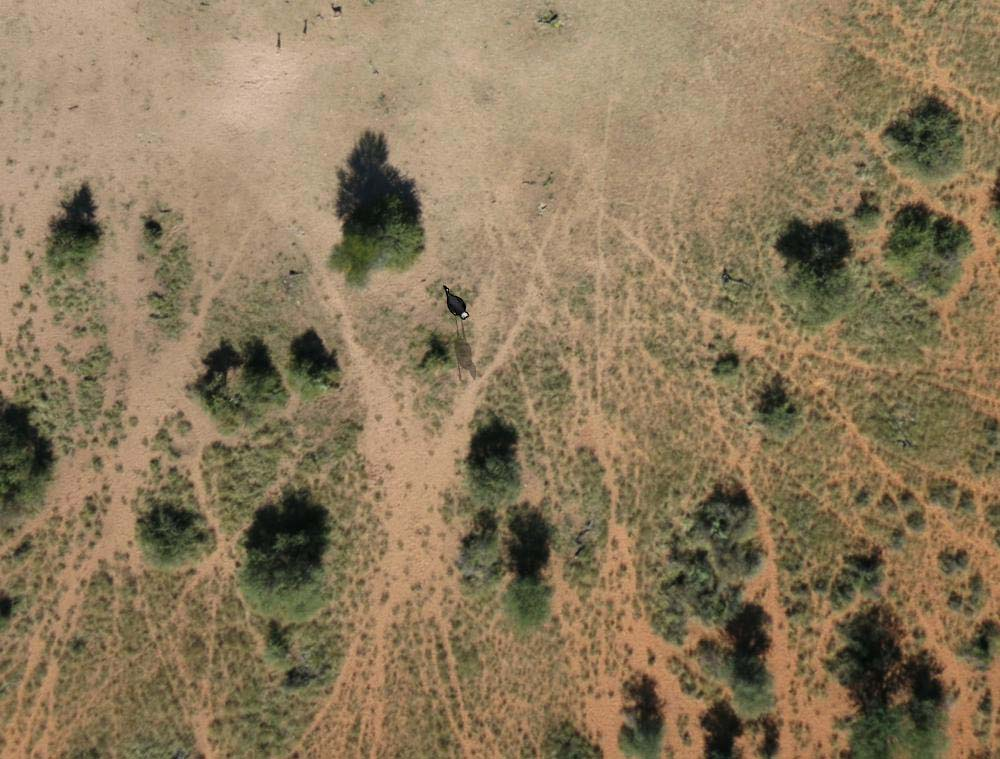springbok: (440, 278, 469, 318)
